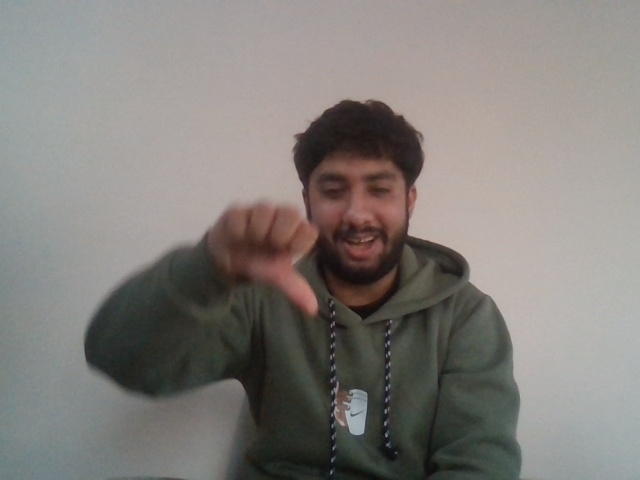No: (205, 206, 334, 311)
